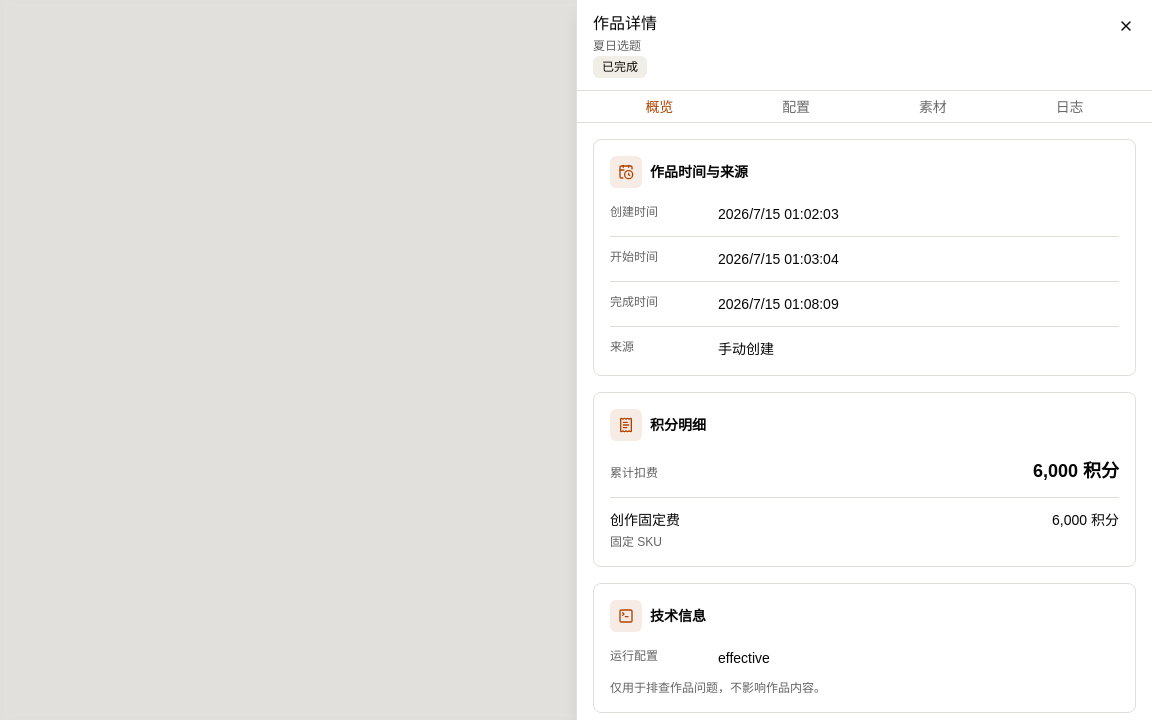
Test: TaskDetailsSheet › keeps the empty log surface compact
Click the tab "日志" at (1070, 106), box [1003,84,1136,128]
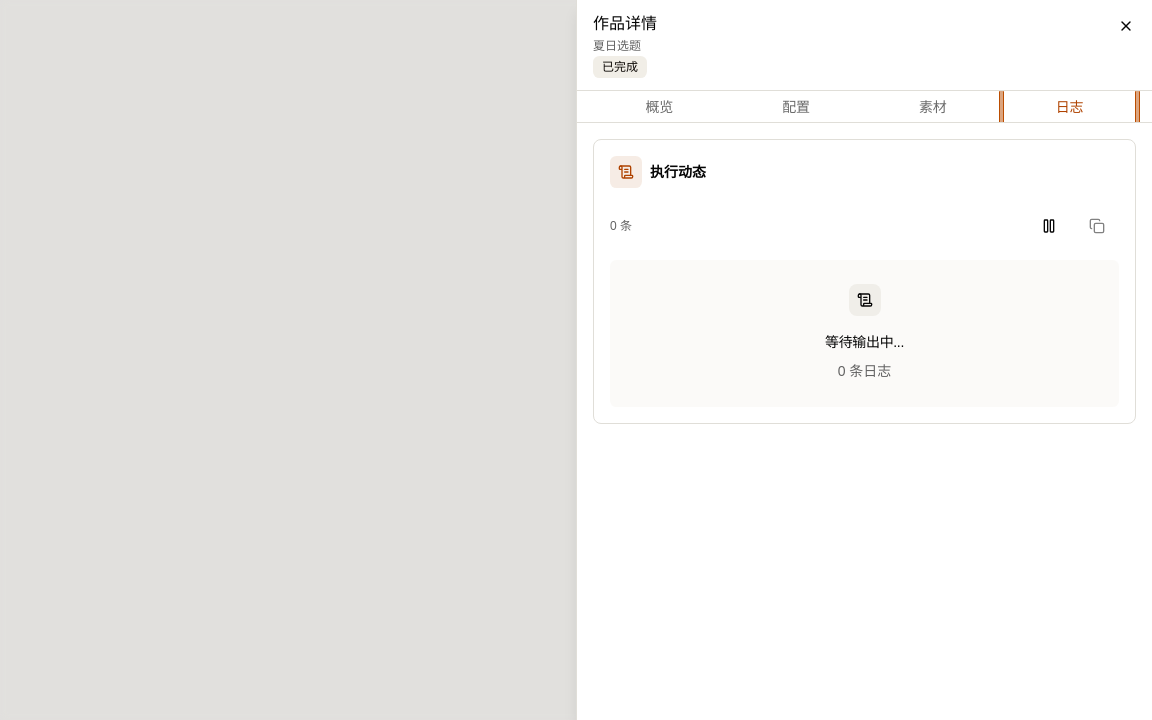
Expected: the button named "复制日志" is disabled, [1075,204,1119,248]
